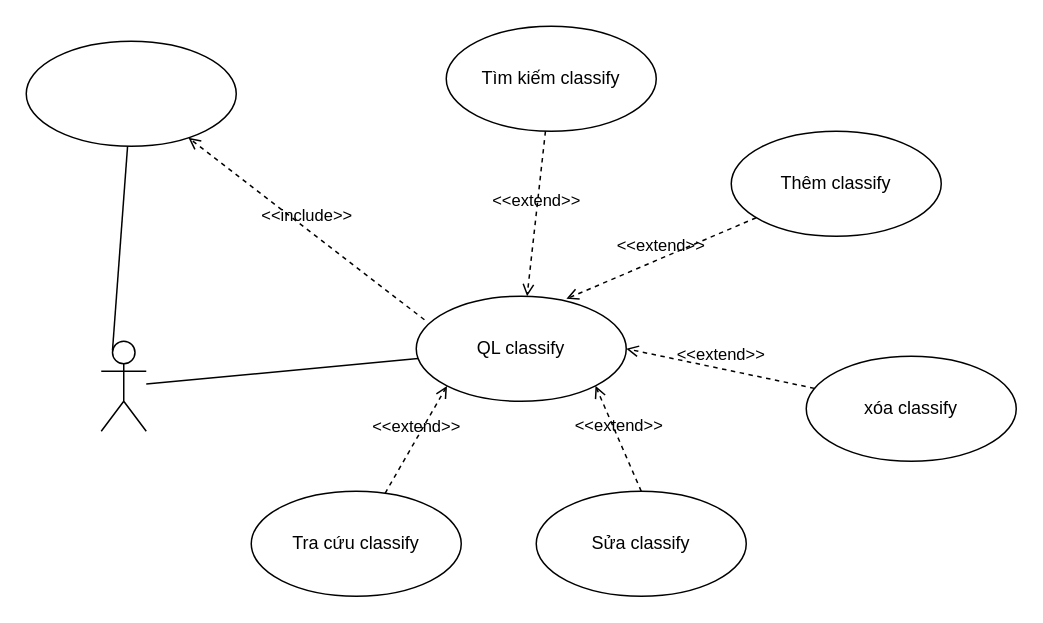
Image size: 1043x623. Some labels were removed from this diagram. The shapes that lost their labels are listed below. From the top down, each one's centre as x and y in pixels, then its label:
(130,93): Đăng nhập
(123,385): Nhân viên QL
